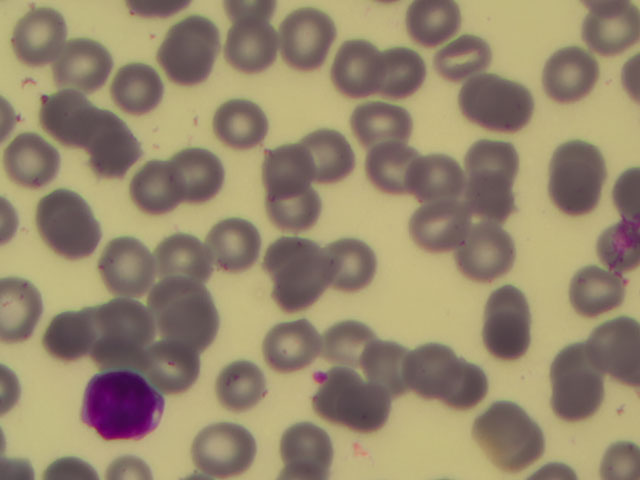Platelets: (311, 368, 330, 383)
RBC: (12, 7, 74, 62), (53, 34, 115, 89), (105, 57, 167, 112), (33, 82, 95, 137), (72, 107, 134, 162), (2, 137, 64, 192), (35, 198, 97, 253), (124, 162, 186, 217), (171, 144, 233, 199), (209, 95, 271, 150), (153, 29, 215, 84), (223, 16, 285, 71), (274, 9, 336, 64), (331, 40, 393, 95), (372, 45, 434, 100), (356, 96, 418, 151), (299, 129, 361, 184), (202, 219, 264, 274), (265, 183, 327, 238), (153, 234, 215, 289), (91, 236, 153, 291), (142, 260, 204, 315), (155, 295, 217, 350), (148, 335, 210, 390), (88, 295, 150, 350), (43, 306, 105, 361), (256, 317, 318, 372), (213, 352, 275, 407), (193, 421, 255, 476), (270, 414, 332, 469), (339, 384, 401, 439), (357, 338, 419, 393), (321, 314, 383, 369), (399, 335, 461, 390), (424, 352, 486, 407), (467, 391, 529, 446), (483, 417, 545, 472), (476, 313, 538, 368), (475, 282, 537, 337), (457, 231, 519, 286), (406, 202, 468, 257), (406, 161, 468, 216), (371, 143, 433, 198), (461, 168, 523, 223), (464, 139, 526, 194), (478, 79, 540, 134), (460, 75, 522, 130), (434, 29, 496, 84), (539, 45, 601, 100), (547, 126, 609, 181), (549, 158, 611, 213), (563, 264, 625, 319), (569, 309, 631, 364), (544, 337, 606, 392), (548, 366, 610, 421), (269, 256, 331, 311), (262, 227, 324, 282), (318, 238, 380, 293), (402, 1, 464, 55), (254, 140, 314, 195)
WBC: (75, 368, 170, 444)
